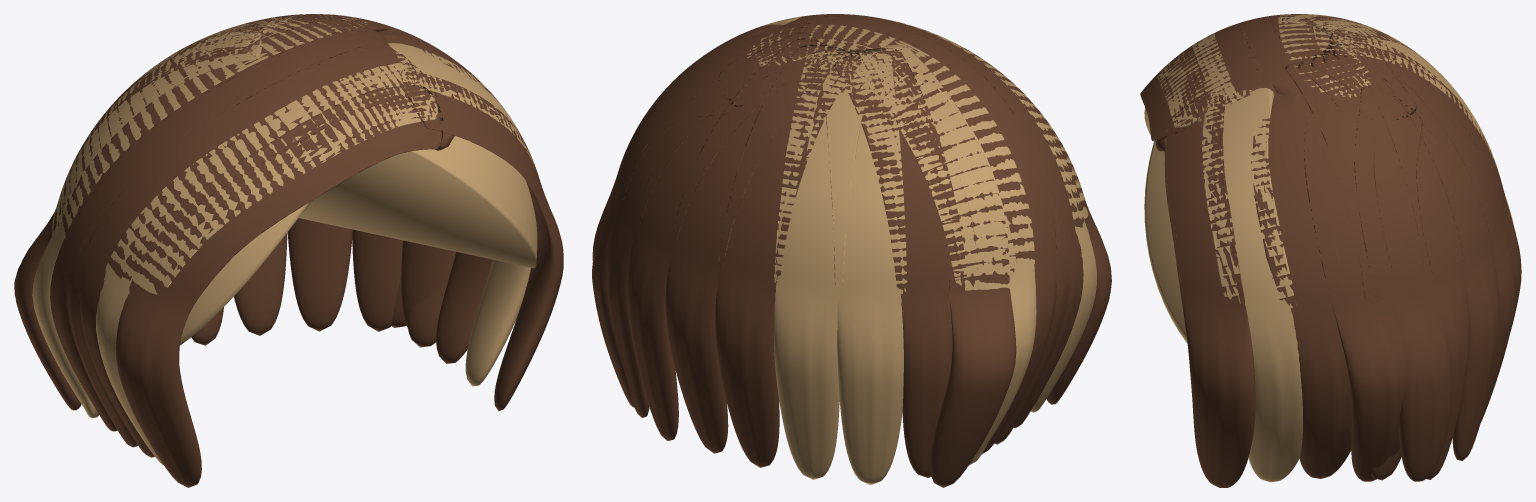
File: Highlights-7c408895751a251-hair.glb
The picture shows the model from 3 angles, left to right: view 1: azimuth 30°, elevation 25°; view 2: azimuth 150°, elevation 25°; view 3: azimuth 270°, elevation 25°; orthographic projection. The views are drawn at different scales.
Parts seen in each view (by area): view 1: 226 hair / Hair / sculpted 0.001, 226 hair / Hair / sculpted 1.001, 226 hair / Hair / sculpted 2.001, 226 hair / Hair / sculpted 1.002; view 2: 226 hair / Hair / sculpted 0.001, 226 hair / Hair / sculpted 2.001, 226 hair / Hair / sculpted 1.001; view 3: 226 hair / Hair / sculpted 1.001, 226 hair / Hair / sculpted 2.001, 226 hair / Hair / sculpted 0.001, 226 hair / Hair / sculpted 1.002.
Part boxes in pixels (x1,y1,x2,y2): 226 hair / Hair / sculpted 0.001: [14, 14, 502, 487]; 226 hair / Hair / sculpted 1.001: [50, 14, 563, 465]; 226 hair / Hair / sculpted 2.001: [32, 14, 536, 457]; 226 hair / Hair / sculpted 1.002: [180, 136, 537, 345]; 226 hair / Hair / sculpted 0.001: [627, 14, 1111, 487]; 226 hair / Hair / sculpted 2.001: [592, 14, 1084, 477]; 226 hair / Hair / sculpted 1.001: [592, 14, 1096, 484]; 226 hair / Hair / sculpted 1.001: [1157, 14, 1515, 487]; 226 hair / Hair / sculpted 2.001: [1180, 14, 1521, 482]; 226 hair / Hair / sculpted 0.001: [1140, 14, 1512, 478]; 226 hair / Hair / sculpted 1.002: [1144, 107, 1187, 343].
Bounding box in the file's own units: 1 × 0.8172 × 0.7544.
